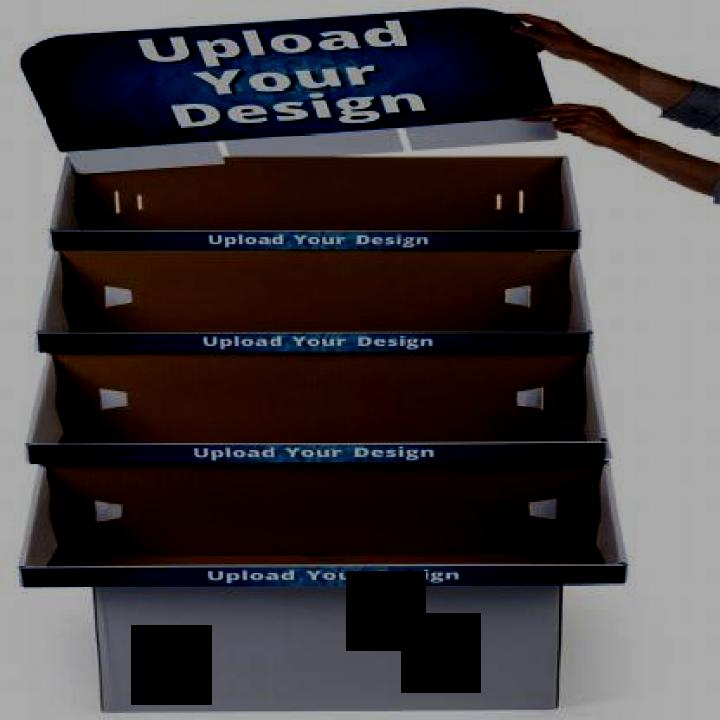box: (6, 1, 640, 720)
